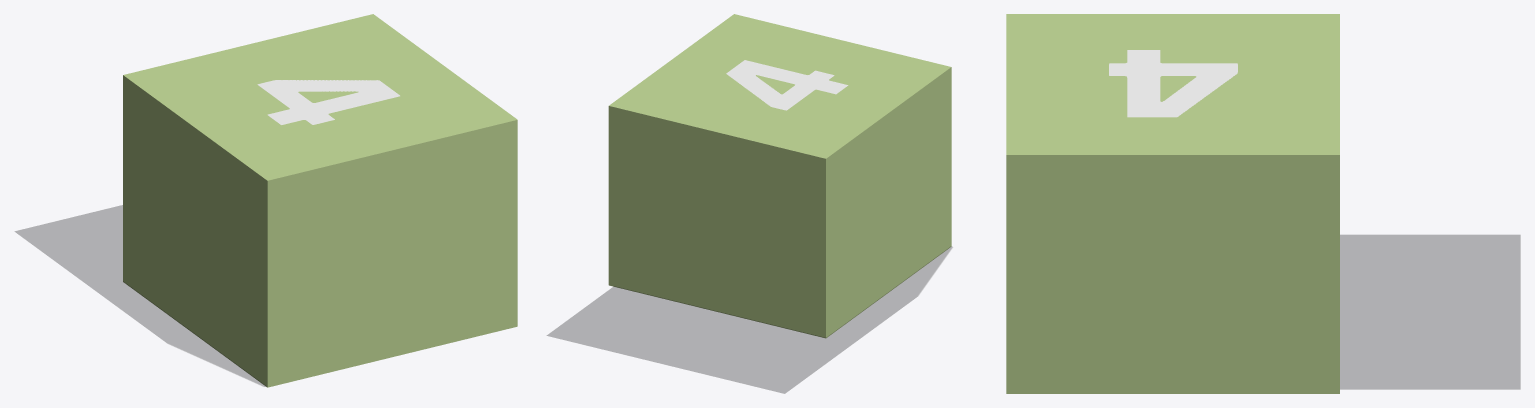
The model's file is numbered_block_3.glb.
The picture shows the model from 3 angles, left to right: view 1: azimuth 30°, elevation 25°; view 2: azimuth 150°, elevation 25°; view 3: azimuth 270°, elevation 25°; orthographic projection. The views are drawn at different scales.
Visible parts, largest first — view 1: hitObj, block, Object3D; view 2: hitObj, block, Object3D; view 3: hitObj, block, Object3D.
Part boxes in pixels (x1,y1,x2,y2): hitObj: (123, 14, 517, 387); block: (15, 205, 266, 386); Object3D: (257, 80, 399, 124); hitObj: (608, 14, 951, 338); block: (547, 246, 952, 393); Object3D: (726, 60, 848, 110); hitObj: (1006, 14, 1339, 393); block: (1340, 235, 1520, 389); Object3D: (1109, 50, 1237, 117).
Size of the model in its own units: 7.88 by 5.57 by 10.81.
Materials: 4 (3 with a texture image).
